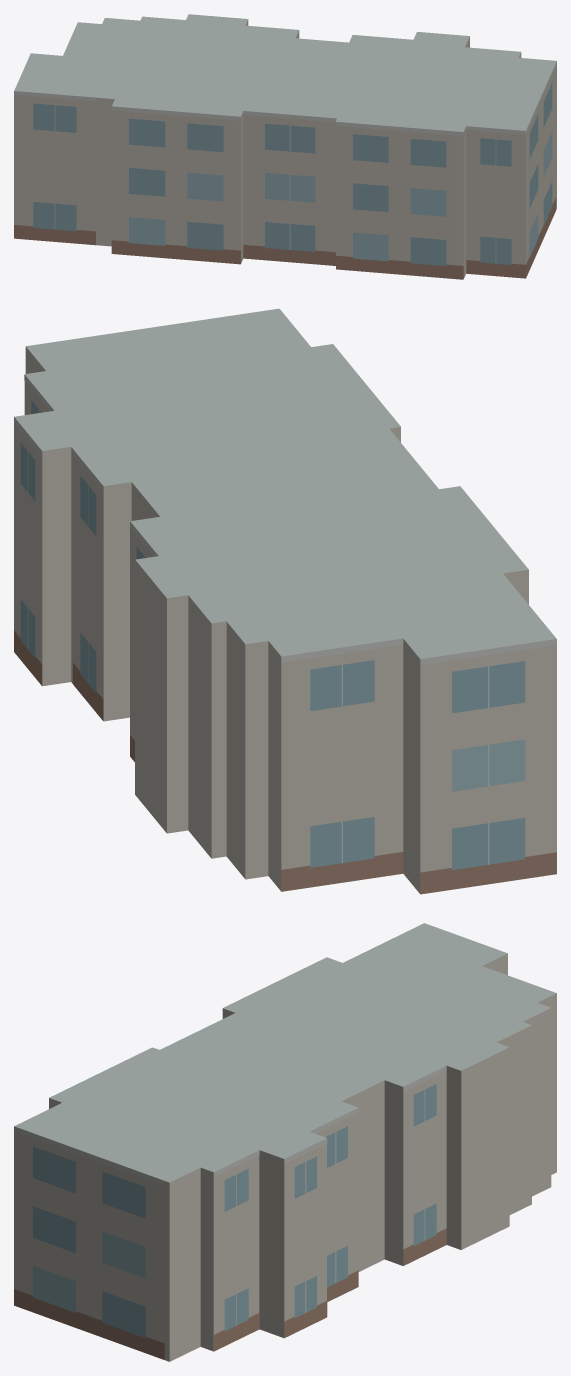
Rendered from survey-upis-32969150.glb.
3 renders of one model, top to bottom at view 1: azimuth 30°, elevation 25°; view 2: azimuth 150°, elevation 25°; view 3: azimuth 270°, elevation 25°, orthographic. The views are drawn at different scales.
Visible parts, largest first — view 1: survey-upis-32969150.tmp; view 2: survey-upis-32969150.tmp; view 3: survey-upis-32969150.tmp.
Part boxes in pixels (x1,y1,x2,y2): survey-upis-32969150.tmp: (14,14,556,279); survey-upis-32969150.tmp: (14,308,556,894); survey-upis-32969150.tmp: (14,923,556,1361).
Bounding box in the file's own units: 28.42 × 9.15 × 25.12.
